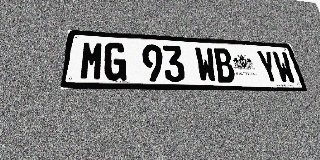3: (162, 45, 185, 82)
9: (142, 44, 165, 81)
B: (212, 48, 237, 83)
G: (104, 42, 126, 81)
M: (79, 41, 104, 80)
W: (271, 51, 297, 84), (194, 47, 218, 82)
Y: (255, 50, 281, 83)
